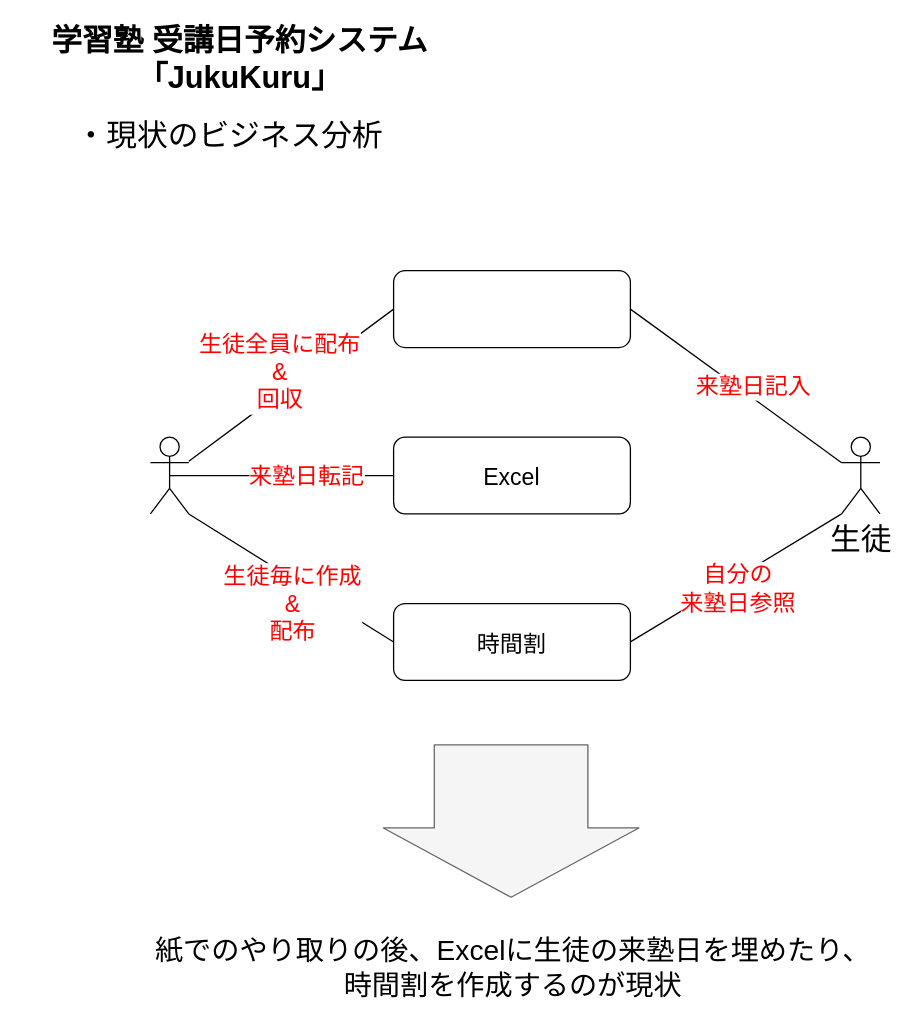
The diagram is 913 pixels wide and 1024 high, and some of its shapes have lost their labels. The shapes that lost their labels are listed below. From the top down, each one's centre as x and y in pixels, then its label:
At [511,308]: "受講日 確認書（紙）".
At [169,475]: "先生".
